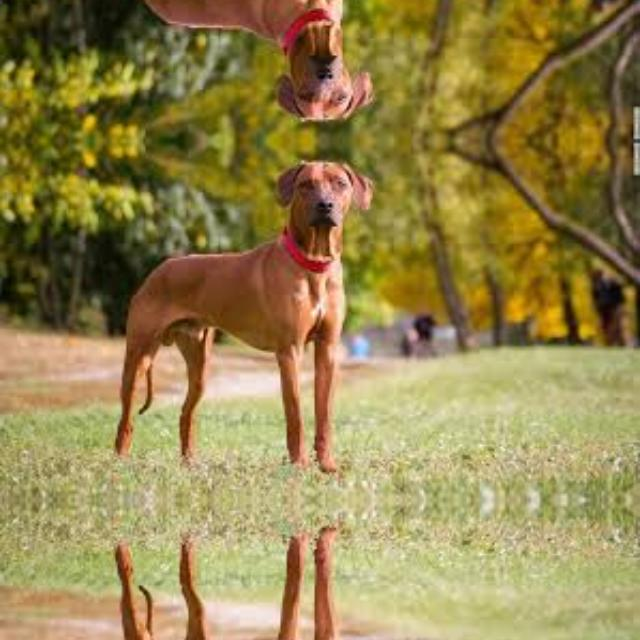dog: (230, 150, 396, 266), (230, 14, 396, 130)
